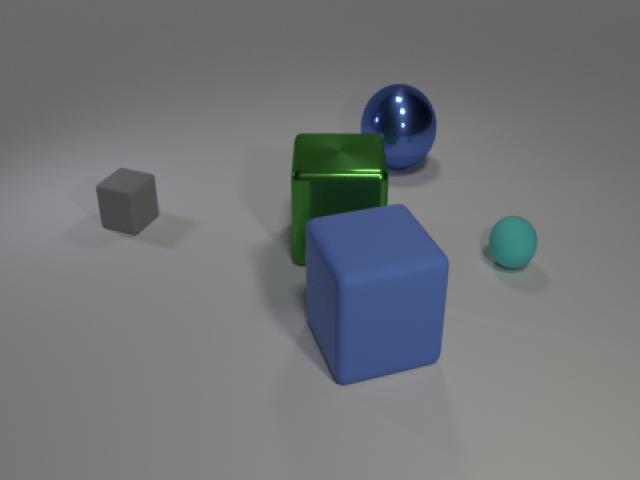round ball: (358, 78, 443, 178), (482, 209, 546, 277)
